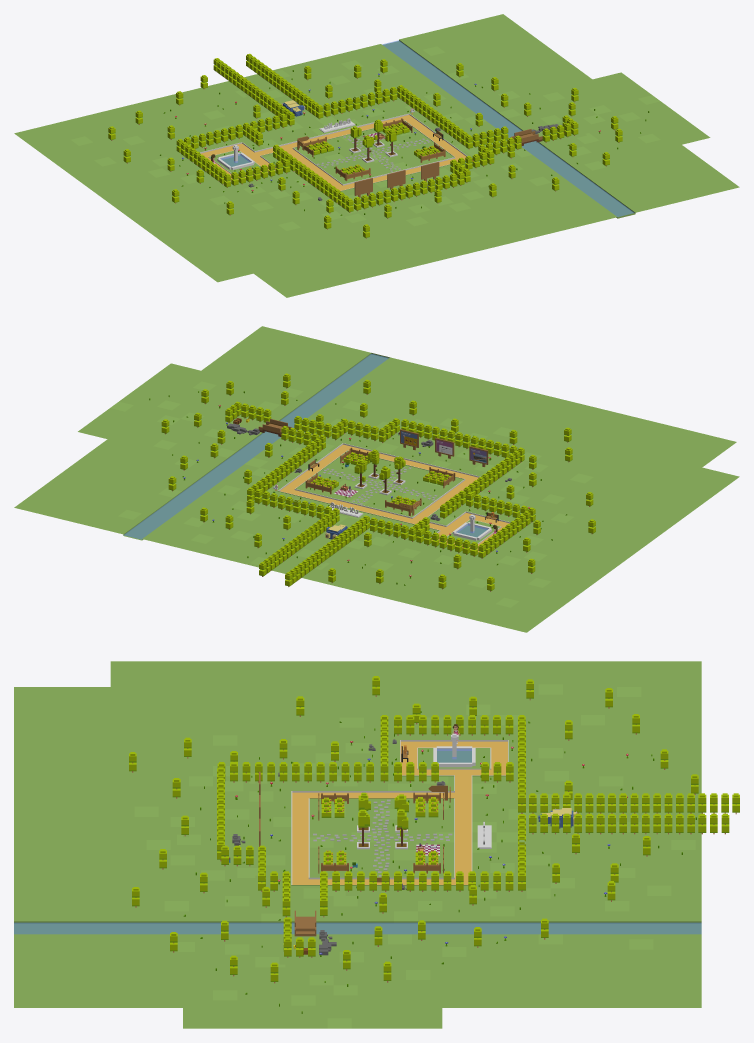
File: Portfolio.glb
3 renders of one model, top to bottom at view 1: azimuth 30°, elevation 25°; view 2: azimuth 150°, elevation 25°; view 3: azimuth 270°, elevation 25°, orthographic. The views are drawn at different scales.
Visible parts, largest first — view 1: Level; view 2: Level; view 3: Level.
Part boxes in pixels (box(x1,y1,x2,y2)): Level: box(14, 14, 739, 297); Level: box(14, 326, 739, 632); Level: box(14, 661, 739, 1028).
Size of what is drawn, in the model's own units: 310 by 15.62 by 259.
Materials: 74 (3 with a texture image).
